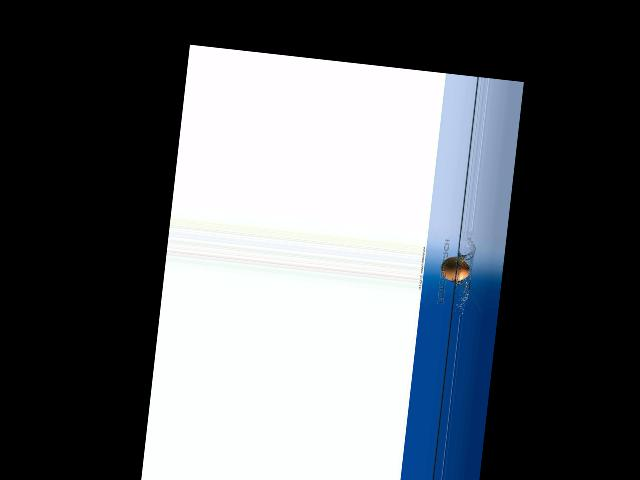egg: (439, 255, 471, 282)
